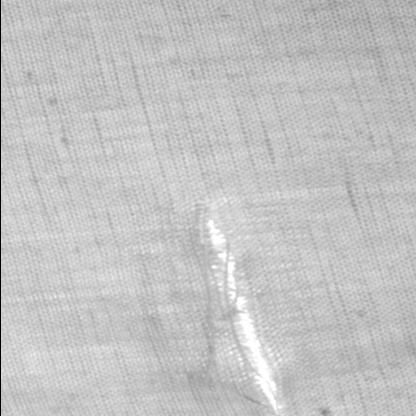hole: (196, 198, 288, 415)
